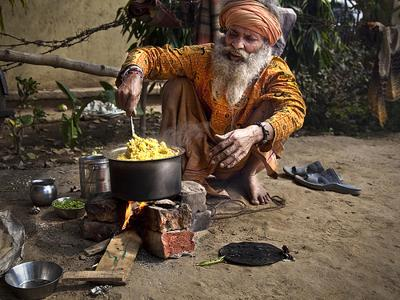person: (114, 3, 309, 209)
